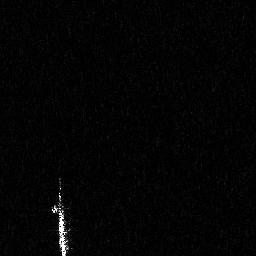ship: (51, 174, 72, 256)
